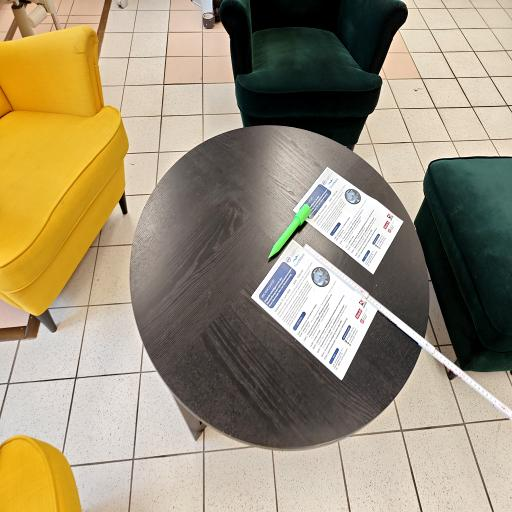Probe-Detection: (269, 204, 311, 258)
